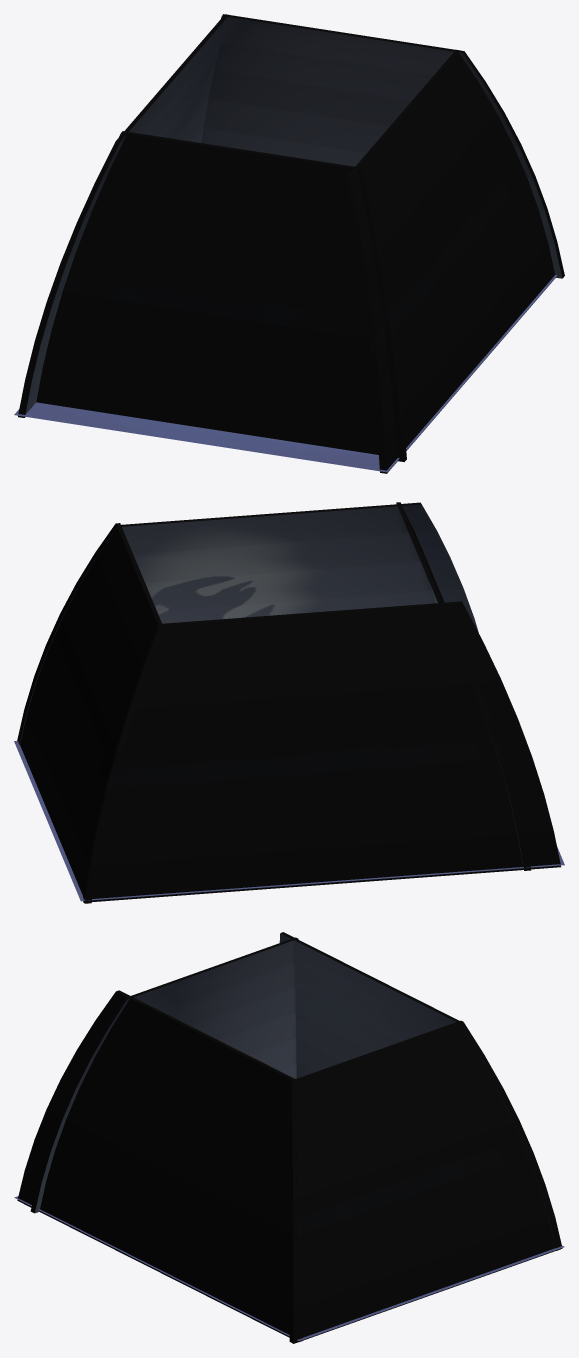
Rendered from ExhibitModel_003.glb.
3 views of the same model, one above another, from view 1: azimuth 30°, elevation 25°; view 2: azimuth 150°, elevation 25°; view 3: azimuth 270°, elevation 25° (orthographic). The views are drawn at different scales.
Parts seen in each view (by area): view 1: WallsFloor; view 2: WallsFloor; view 3: WallsFloor.
Part boxes in pixels (box(x1,y1,x2,y2)): WallsFloor: box(14, 14, 564, 473); WallsFloor: box(14, 502, 564, 903); WallsFloor: box(14, 932, 564, 1343).
Bounding box in the file's own units: 46785 × 20000 × 45788.
Materials: 1 (1 with a texture image).
